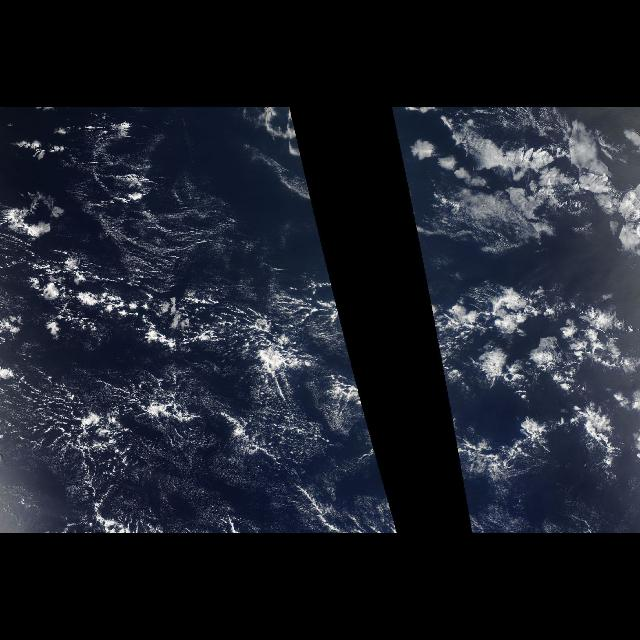Flower: (420, 124, 640, 496), (332, 280, 388, 488)
Sugar: (10, 341, 368, 533)
